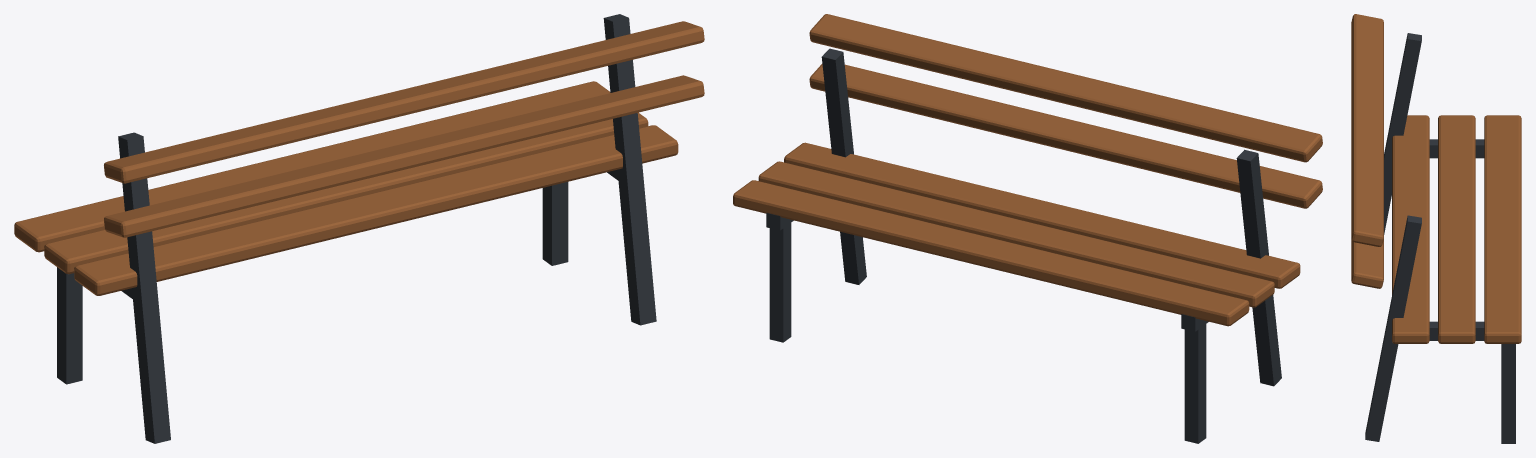
The model's file is Bench.fbx.
3 renders of one model, left to right at view 1: azimuth 30°, elevation 25°; view 2: azimuth 150°, elevation 25°; view 3: azimuth 270°, elevation 25°, orthographic. The views are drawn at different scales.
Parts seen in each view (by area): view 1: Bench; view 2: Bench; view 3: Bench.
Part boxes in pixels (x1,y1,x2,y2): Bench: (14,14,704,443); Bench: (733,14,1322,443); Bench: (1351,14,1521,443).
Bounding box in the file's own units: 1.8 × 0.8714 × 0.5914.
